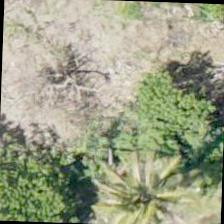Kelapa_Sawit: (98, 145, 193, 223)
